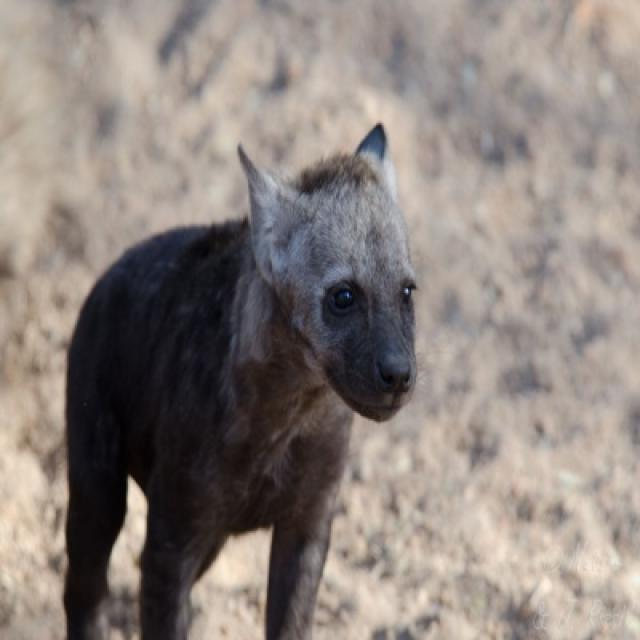hyena: (64, 125, 418, 638)
